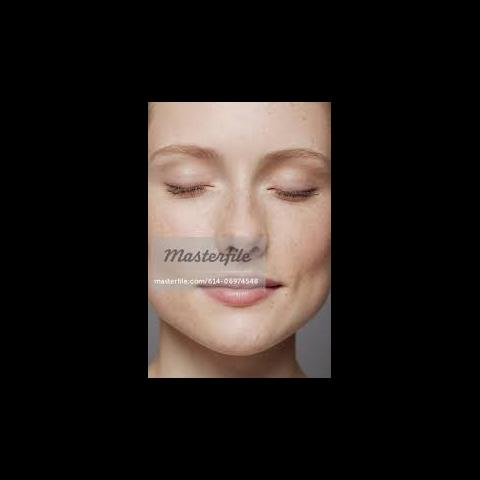closed: (154, 136, 326, 212)
